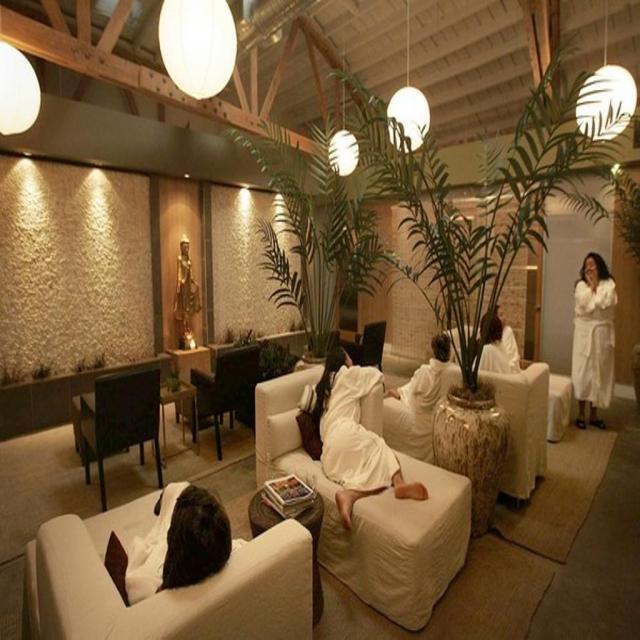nomask: (584, 256, 597, 278), (495, 308, 505, 328)
